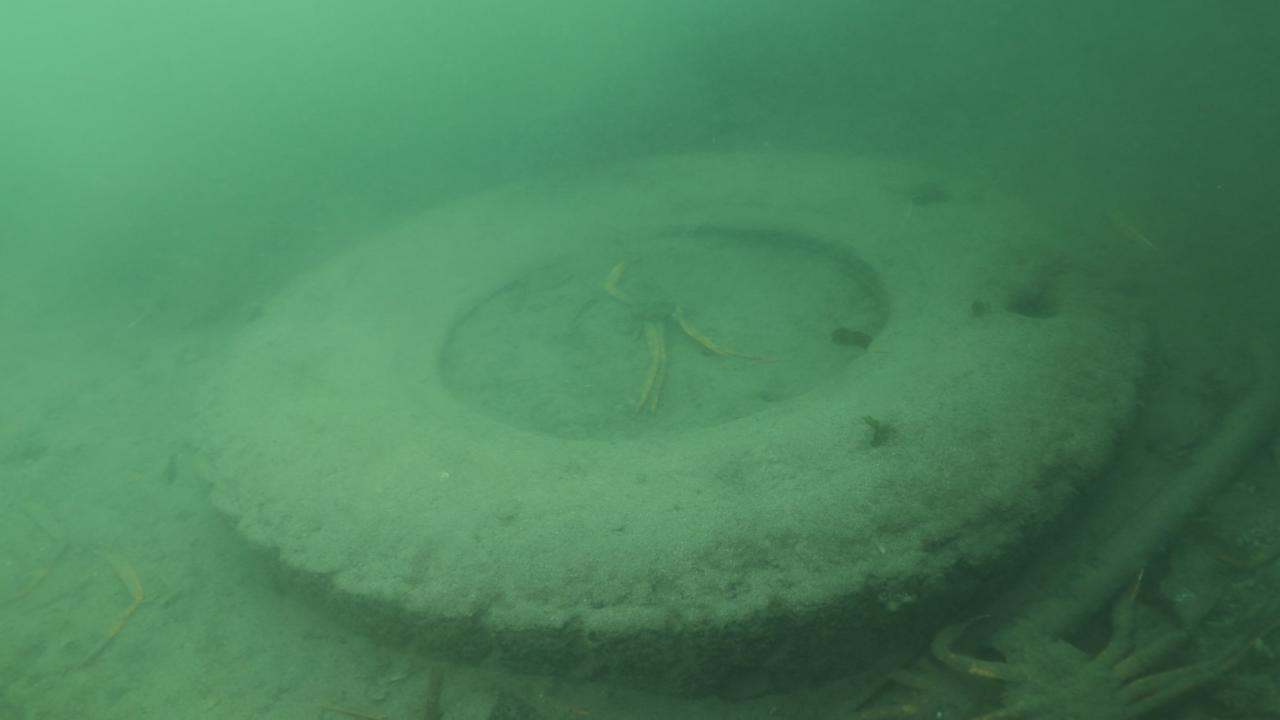tire: (193, 148, 1148, 673)
